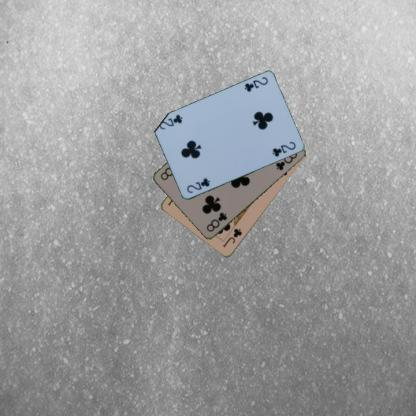2c: (241, 75, 269, 93), (184, 176, 211, 194)
8c: (204, 210, 228, 233)
Jc: (220, 226, 243, 249)
